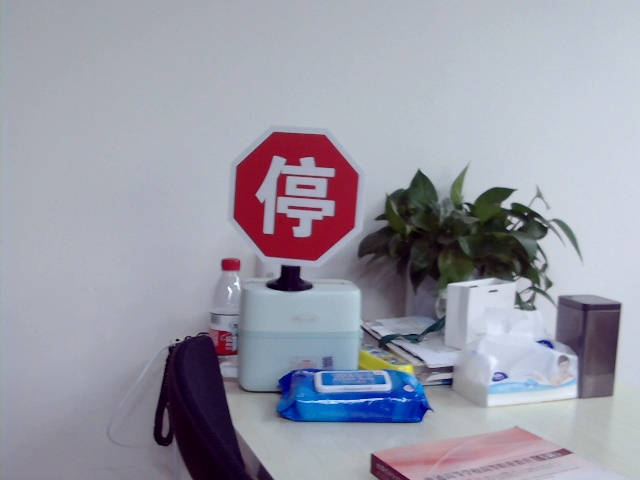stop: (255, 155, 336, 235)
